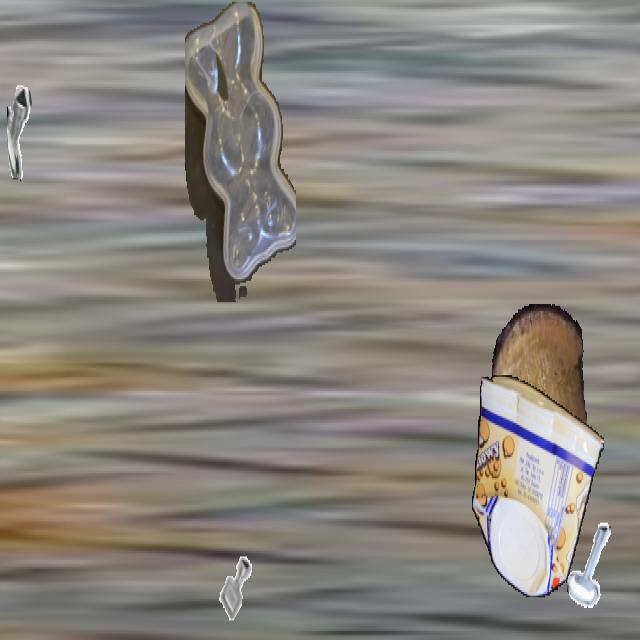metal: (7, 82, 63, 181), (566, 521, 618, 613), (211, 542, 261, 631)
plastic: (185, 2, 295, 300), (472, 375, 604, 596)
wood: (492, 304, 586, 489)
